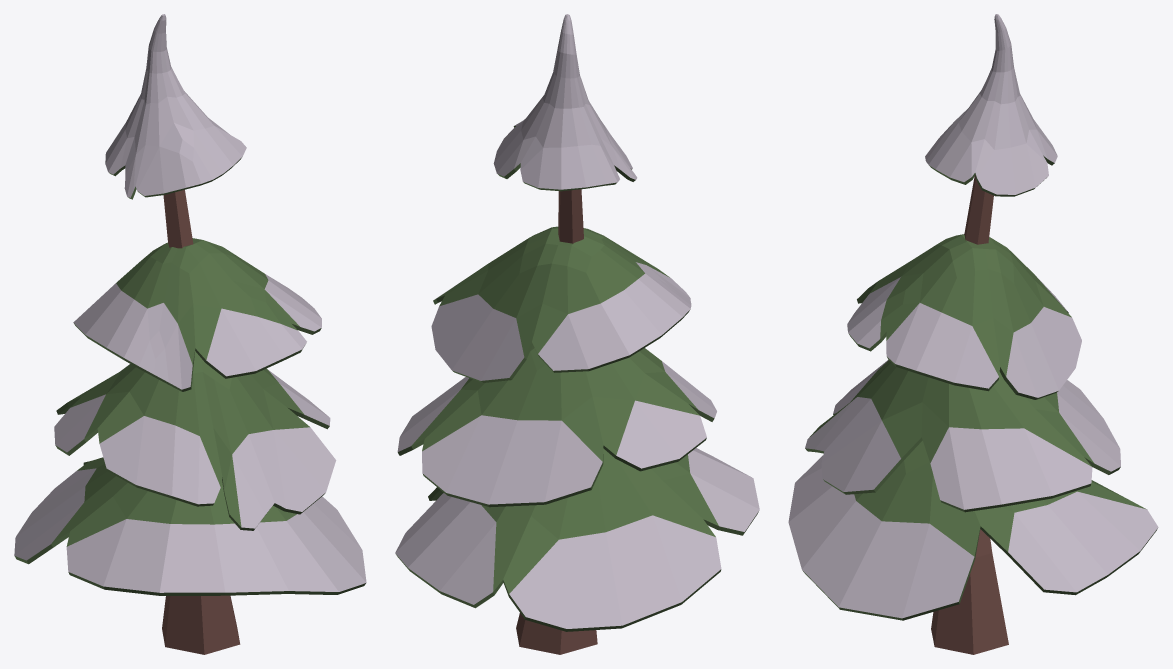
File: pine_snow.glb
3 renders of one model, left to right at view 1: azimuth 30°, elevation 25°; view 2: azimuth 150°, elevation 25°; view 3: azimuth 270°, elevation 25°, orthographic. The views are drawn at different scales.
Visible parts, largest first — view 1: PineTree_Snow_2; view 2: PineTree_Snow_2; view 3: PineTree_Snow_2.
Part boxes in pixels (x1=…): PineTree_Snow_2: x1=14, y1=14, x2=366, y2=654; PineTree_Snow_2: x1=395, y1=14, x2=759, y2=654; PineTree_Snow_2: x1=788, y1=14, x2=1158, y2=654.
Size of the model in its own units: 1.8 by 3.56 by 1.96.
